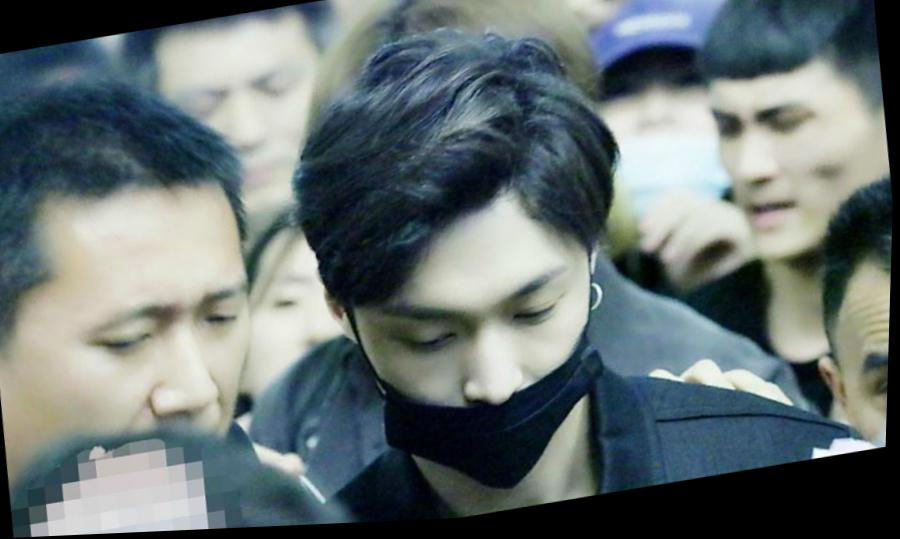NONE: (25, 258, 278, 537), (705, 73, 887, 267), (172, 43, 326, 228)
WRONG: (358, 254, 613, 512), (584, 40, 743, 240)
